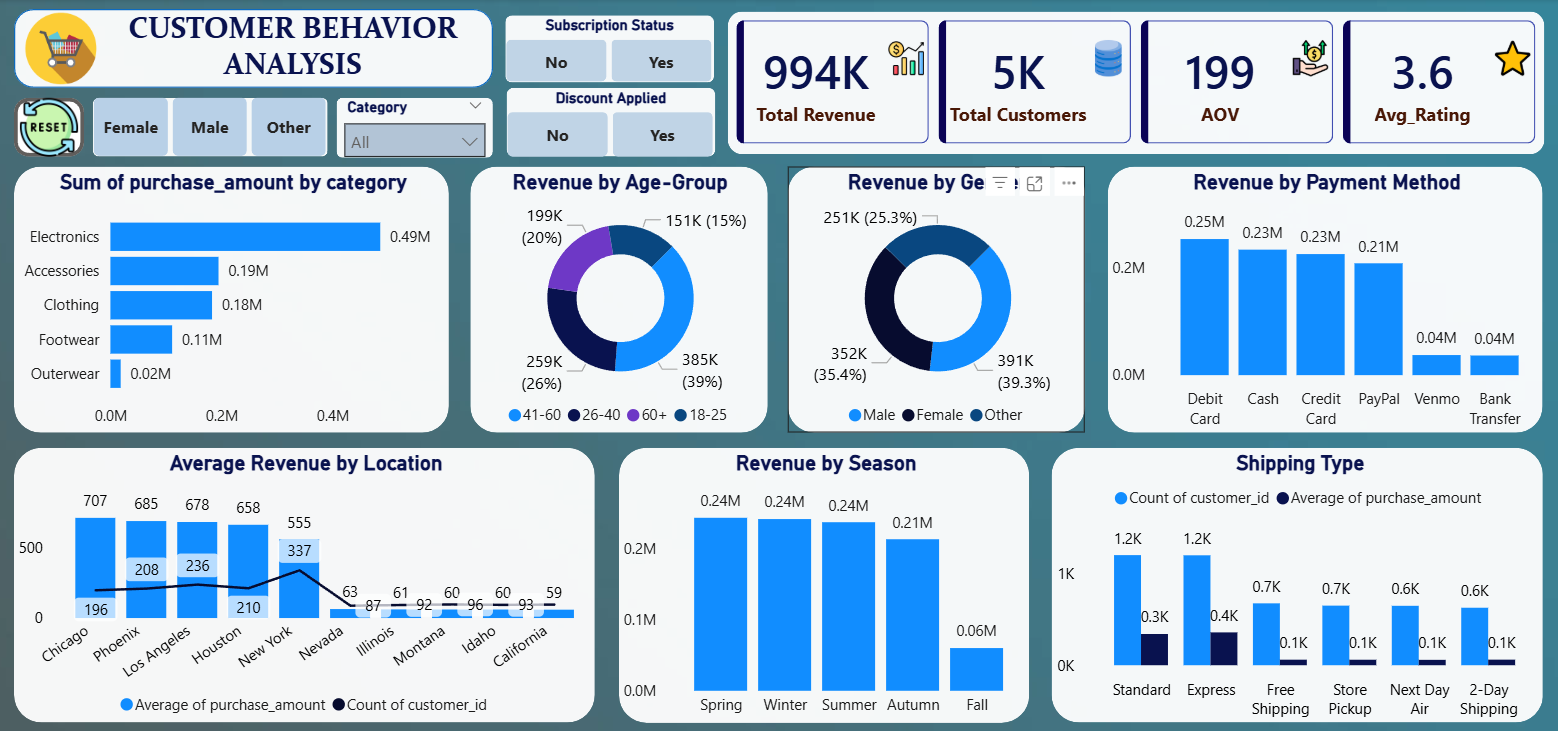

The dashboard page shown, as its layout file describes it:
{"tool":"powerbi","page":{"name":"Customer Analysis Revenue","canvas":[1265,595],"ordinal":0},"visuals":[{"type":"shape","box":[591.5,10.1,662.5,115.7],"z":0},{"type":"shape","box":[503.2,364.2,332.8,223.2],"z":1000},{"type":"shape","box":[12.6,135.6,352.8,216],"z":2000},{"type":"cardVisual","fields":{"Data":["public customer.Total Revenue","public customer.Total Customers","public customer.AOV","public customer.Avg_Review_Rating"]},"box":[598.6,17.2,649.3,100.4],"z":3000},{"type":"shape","box":[640.1,135.6,241.3,216],"z":4000},{"type":"donutChart","title":"Revenue by Gender","fields":{"Category":["public customer.gender"],"Y":["Sum(public customer.purchase_amount)"]},"box":[640.1,135.6,241.3,216],"z":5000},{"type":"clusteredBarChart","fields":{"Category":["public customer.category"],"Y":["Sum(public customer.purchase_amount)"]},"box":[12.2,136,353.1,216.1],"z":6000},{"type":"shape","box":[382.7,135.6,241.3,216],"z":7000},{"type":"clusteredColumnChart","title":"Revenue by Season","fields":{"Category":["public customer.season"],"Y":["Sum(public customer.purchase_amount)"]},"box":[503.3,364.3,333.3,222.9],"z":8000},{"type":"shape","box":[853.8,364.3,398.8,222.9],"z":9000},{"type":"shape","box":[12.6,364.3,471.2,222.9],"z":10000},{"type":"clusteredColumnChart","title":"Shipping Type","fields":{"Y":["CountNonNull(public customer.customer_id)","Avg(public customer.purchase_amount)"],"Category":["public customer.shipping_type"]},"box":[854.3,364.2,398.7,223.2],"z":11000},{"type":"shape","box":[410.9,13.2,169.4,54.8],"z":12000},{"type":"donutChart","title":"Revenue by Age-Group","fields":{"Category":["public customer.age (groups)"],"Y":["Sum(public customer.purchase_amount)"]},"box":[382.7,135.6,241.3,216],"z":13000},{"type":"shape","box":[899.8,135.6,352.8,216],"z":14000},{"type":"shape","box":[12.2,8.1,388.6,63.9],"z":14500},{"type":"lineClusteredColumnComboChart","title":"Average Revenue by Location","fields":{"Y":["Avg(public customer.purchase_amount)"],"Category":["public customer.location"],"Y2":["CountNonNull(public customer.customer_id)"]},"box":[12.6,364.3,471.2,222.9],"z":15000},{"type":"clusteredColumnChart","title":"Revenue by Payment Method","fields":{"Category":["public customer.payment_method"],"Y":["Sum(public customer.purchase_amount)"]},"box":[899.8,135.6,352.8,216],"z":16000},{"type":"textbox","box":[76.1,8.1,324.7,63.9],"z":17000},{"type":"shape","box":[76.1,80.2,190.7,47.7],"z":18000},{"type":"shape","box":[411.9,72,169.4,55.8],"z":19000},{"type":"shape","box":[273.9,80.2,126.8,48.7],"z":19500},{"type":"slicer","fields":{"Values":["public customer.category"]},"box":[273.9,80.2,126.8,47.7],"z":20000},{"type":"advancedSlicerVisual","title":"Discount Applied","fields":{"Values":["public customer.discount_applied"]},"box":[411.9,72,169.4,56.8],"z":21000},{"type":"advancedSlicerVisual","title":"Subscription Status","fields":{"Values":["public customer.subscription_status"]},"box":[410.9,13.2,169.4,54.8],"z":22000},{"type":"advancedSlicerVisual","fields":{"Values":["public customer.gender"]},"box":[75.8,80.4,190.8,47.1],"z":23000},{"type":"actionButton","box":[12.2,80.2,56.8,47.7],"z":24000},{"type":"image","box":[12.2,80.2,56.8,47.7],"z":25000},{"type":"image","box":[12.2,8.1,76.1,63.9],"z":27000}]}

Visuals, with their boxes in screenshot pixels (x1, y1, x2, y2), scaled from the page's 1265x595 canvas onto the 1558x731 screenshot:
shape: rect(729, 12, 1544, 155)
shape: rect(620, 447, 1030, 722)
shape: rect(16, 167, 450, 432)
cardVisual - public customer.Total Revenue x public customer.Total Customers: rect(737, 21, 1537, 144)
shape: rect(788, 167, 1086, 432)
"Revenue by Gender" donutChart: rect(788, 167, 1086, 432)
clusteredBarChart - public customer.category x Sum(public customer.purchase_amount): rect(15, 167, 450, 433)
shape: rect(471, 167, 769, 432)
"Revenue by Season" clusteredColumnChart: rect(620, 448, 1030, 721)
shape: rect(1052, 448, 1543, 721)
shape: rect(16, 448, 596, 721)
"Shipping Type" clusteredColumnChart: rect(1052, 447, 1543, 722)
shape: rect(506, 16, 715, 84)
"Revenue by Age-Group" donutChart: rect(471, 167, 769, 432)
shape: rect(1108, 167, 1543, 432)
shape: rect(15, 10, 494, 88)
"Average Revenue by Location" lineClusteredColumnComboChart: rect(16, 448, 596, 721)
"Revenue by Payment Method" clusteredColumnChart: rect(1108, 167, 1543, 432)
textbox: rect(94, 10, 494, 88)
shape: rect(94, 99, 329, 157)
shape: rect(507, 88, 716, 157)
shape: rect(337, 99, 494, 158)
slicer - public customer.category: rect(337, 99, 494, 157)
"Discount Applied" advancedSlicerVisual: rect(507, 88, 716, 158)
"Subscription Status" advancedSlicerVisual: rect(506, 16, 715, 84)
advancedSlicerVisual - public customer.gender: rect(93, 99, 328, 157)
actionButton: rect(15, 99, 85, 157)
image: rect(15, 99, 85, 157)
image: rect(15, 10, 109, 88)
